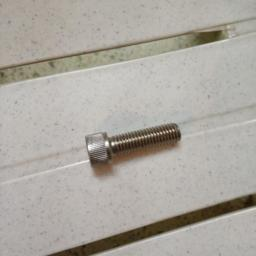screwtype1silver: (76, 122, 185, 168)
